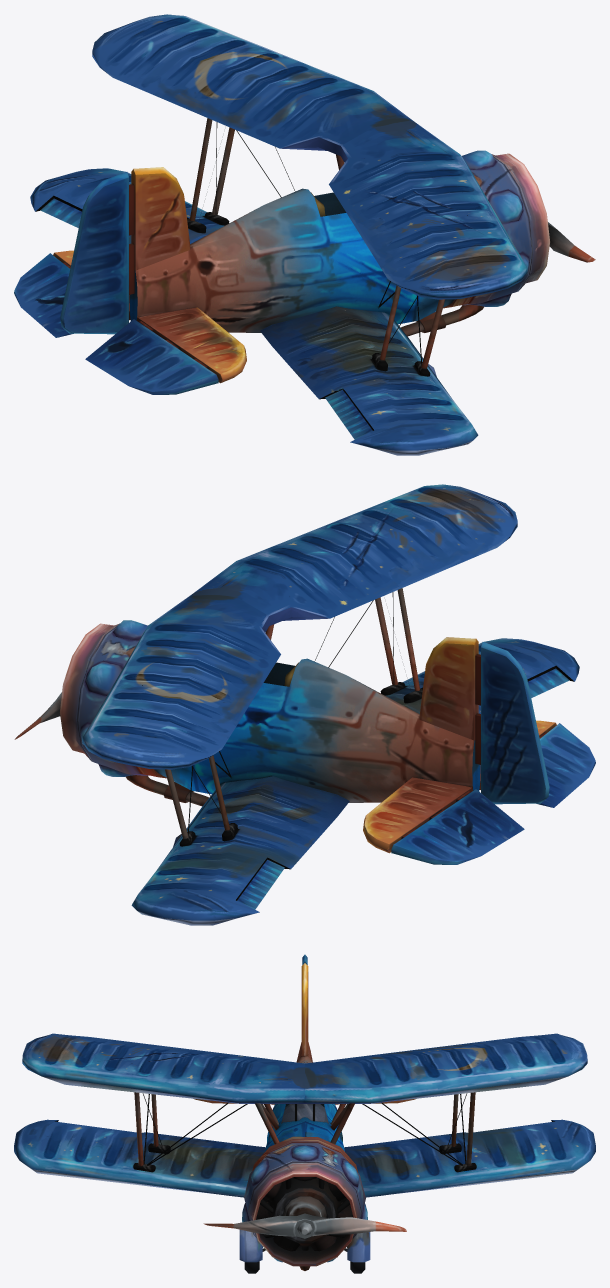
Rendered from dae_-_rustairborn.glb.
3 views of the same model, one above another, from view 1: azimuth 30°, elevation 25°; view 2: azimuth 150°, elevation 25°; view 3: azimuth 270°, elevation 25° (orthographic). The views are drawn at different scales.
Visible parts, largest first — view 1: SM_plane; view 2: SM_plane; view 3: SM_plane.
Boxes of the visible parts, x1=… form: SM_plane: x1=14, y1=14, x2=595, y2=455; SM_plane: x1=14, y1=484, x2=595, y2=925; SM_plane: x1=14, y1=954, x2=595, y2=1273.
Bounding box in the file's own units: 6.9 × 3.84 × 9.25.
Materials: 1 (1 with a texture image).
